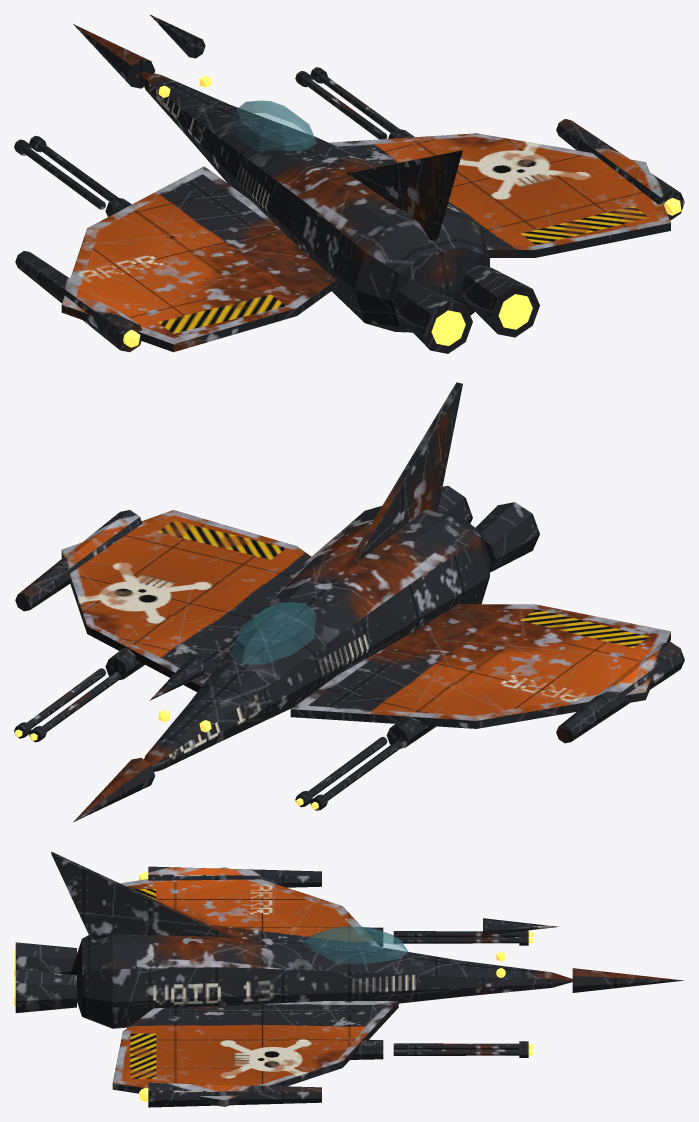
File: model_old.glb
3 renders of one model, top to bottom at view 1: azimuth 30°, elevation 25°; view 2: azimuth 150°, elevation 25°; view 3: azimuth 270°, elevation 25°, orthographic. The views are drawn at different scales.
Parts seen in each view (by area): view 1: hull, cockpit, glow; view 2: hull, cockpit; view 3: hull, cockpit, glow.
Boxes of the visible parts, box(x1,y1,x2,y2) form: hull: box(14, 14, 684, 353); cockpit: box(230, 100, 316, 151); glow: box(16, 70, 681, 347); hull: box(14, 382, 684, 822); cockpit: box(230, 602, 316, 664); hull: box(15, 851, 683, 1107); cockpit: box(302, 926, 408, 963); glow: box(14, 871, 533, 1102).
Bounding box in the file's own units: 10.8 × 3.56 × 13.13.
Materials: 3 (1 with a texture image).
